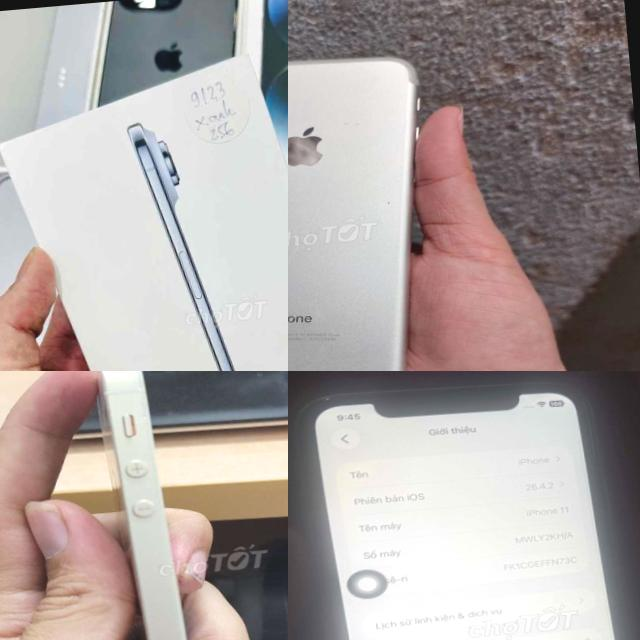gen_11: (296, 371, 640, 640)
gen_17: (112, 93, 288, 371)
gen_6: (97, 371, 188, 640)
gen_7_8: (288, 40, 450, 371)
scratch: (288, 166, 351, 324), (321, 392, 333, 402)
